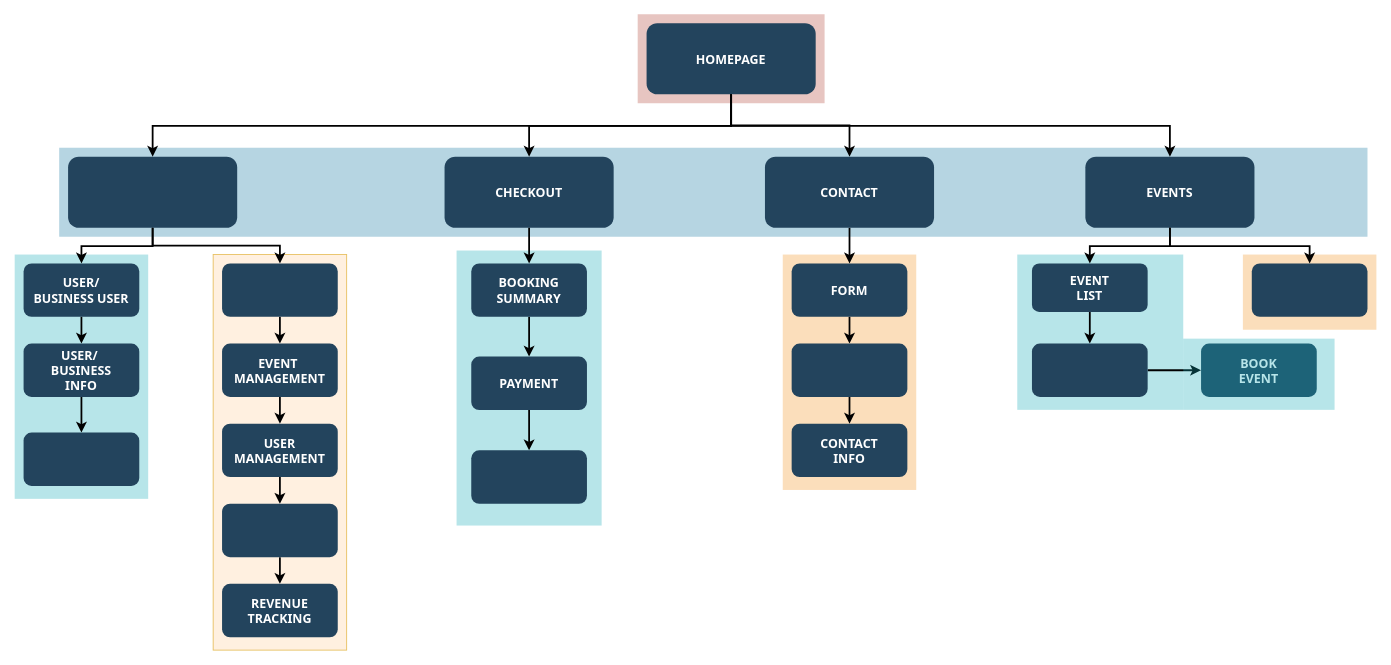
Some shapes in this 1391 by 665 pixel diagram are drawn without their labels. The shapes that lost their labels are listed below. From the top down, each one's centre as x and y in pixels, then its label:
At (x=152, y=191): "PROFILE".
At (x=279, y=289): "ADMIN".
At (x=1309, y=289): "SEARCH".
At (x=849, y=369): "FAQ".
At (x=1089, y=369): "EVENT DETAILS".
At (x=81, y=458): "MY BOOKINGS/ CREATE EVENT".
At (x=529, y=476): "CONFIRMATION".
At (x=279, y=530): "REPORTS & ANAYLTICS".
